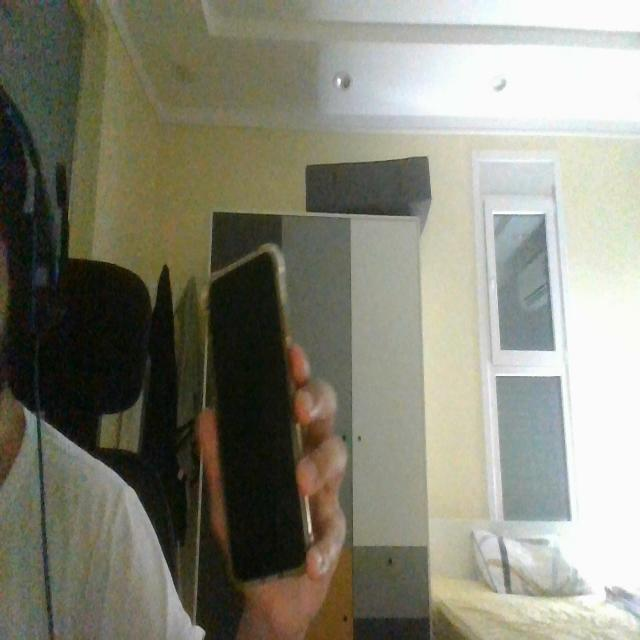Phone: (202, 240, 315, 587)
